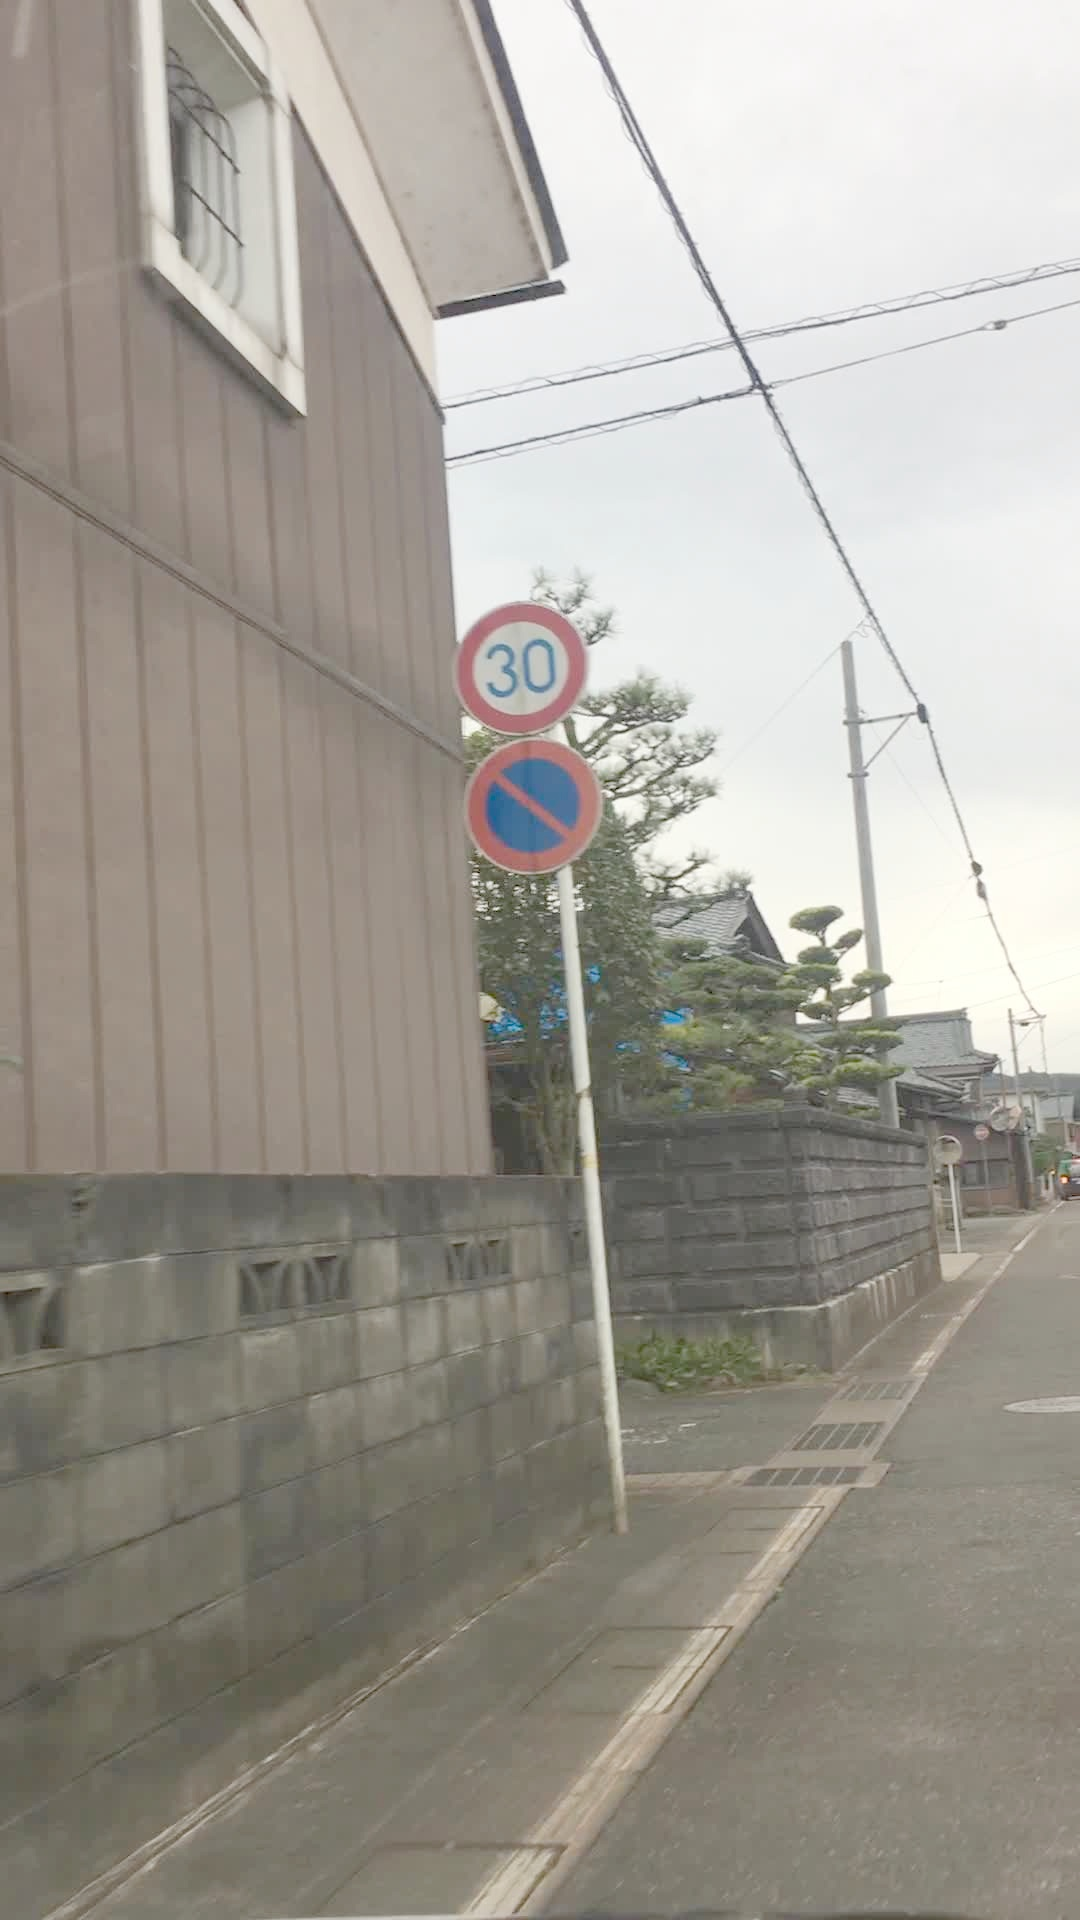Prohibition_sign: (458, 727, 618, 924)
Speed_sign: (433, 589, 596, 744)
